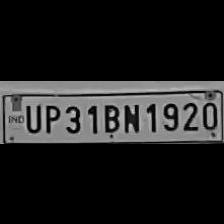0: (198, 98, 218, 132)
1: (84, 100, 100, 134), (141, 100, 158, 132)
2: (180, 97, 198, 131)
3: (60, 101, 82, 135)
9: (158, 98, 178, 132)
B: (100, 99, 120, 133)
N: (121, 99, 141, 133)
P: (41, 100, 61, 134)
U: (21, 100, 41, 132)
